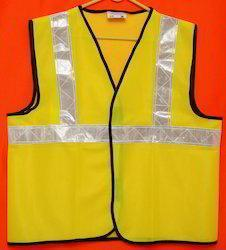vest: (6, 4, 222, 245)
